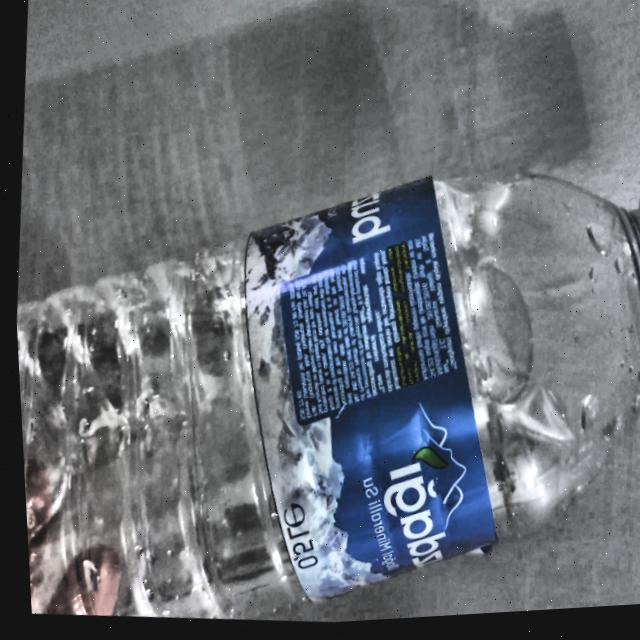plastic: (12, 163, 640, 625)
